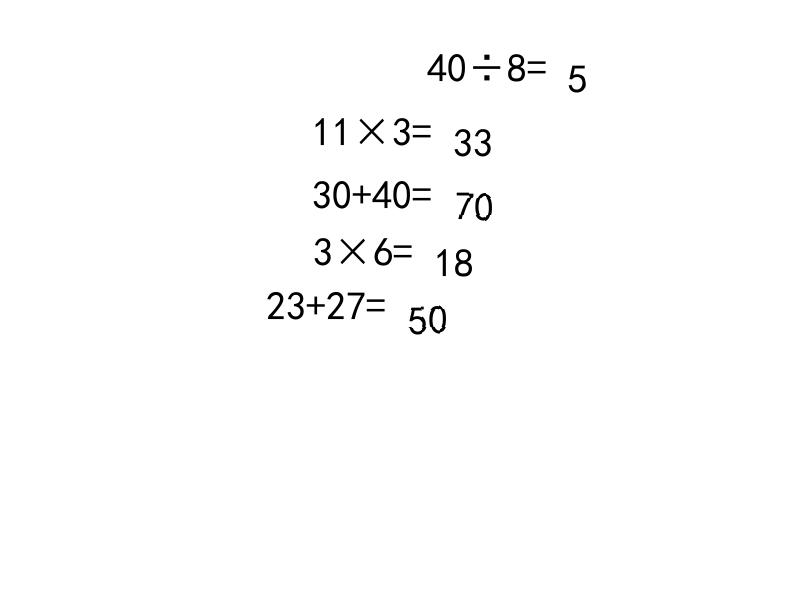+: (352, 174, 372, 204), (306, 285, 326, 314)
0: (332, 174, 352, 204), (392, 174, 412, 204), (462, 174, 482, 204), (447, 47, 467, 76), (416, 285, 436, 314)
1: (312, 111, 332, 140), (332, 111, 352, 140), (423, 231, 443, 260)
2: (266, 285, 286, 314), (326, 285, 346, 314)
3: (312, 174, 332, 204), (392, 111, 412, 140), (442, 111, 462, 140), (462, 111, 482, 140), (313, 231, 333, 260), (286, 285, 306, 314)
4: (372, 174, 392, 204), (427, 47, 447, 76)
5: (557, 47, 577, 76), (396, 285, 416, 314)
6: (373, 231, 393, 260)
7: (442, 174, 462, 204), (346, 285, 366, 314)
8: (507, 47, 527, 76), (443, 231, 463, 260)
=: (412, 174, 432, 204), (527, 47, 547, 76), (412, 111, 432, 140), (393, 231, 413, 260), (366, 285, 386, 314)
×: (352, 111, 392, 140), (333, 231, 373, 260)
÷: (467, 47, 507, 76)
